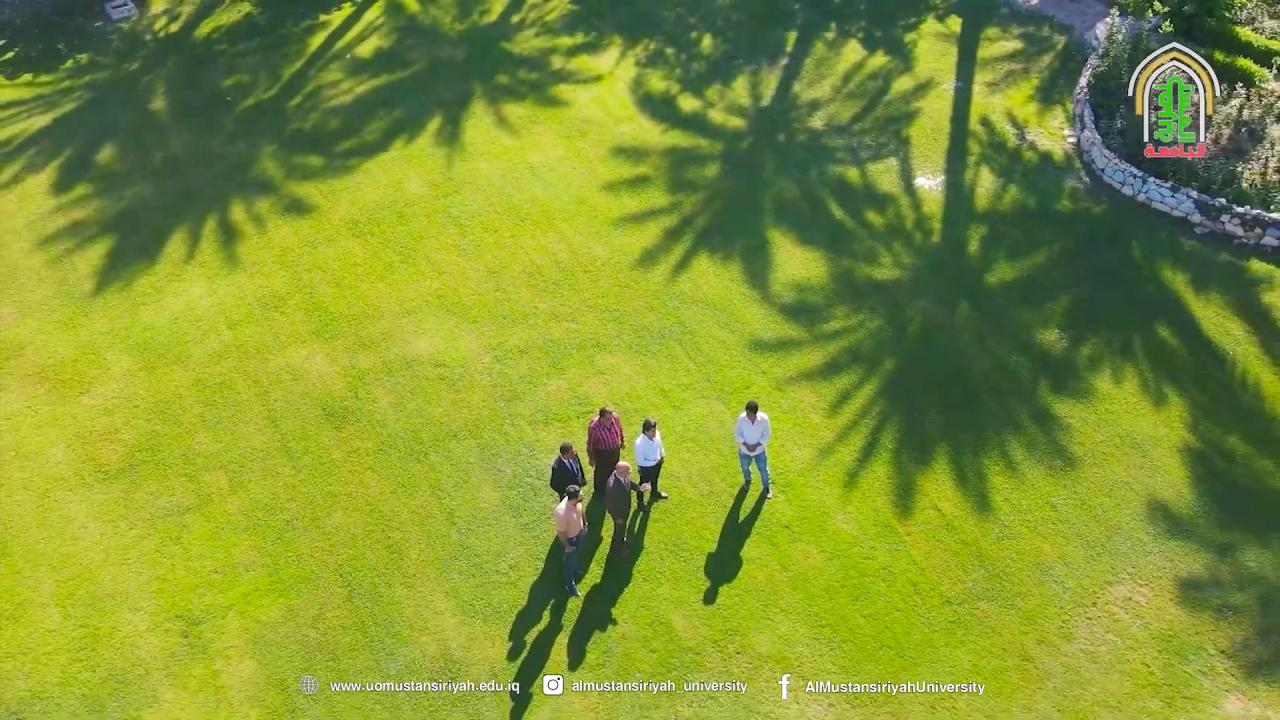person: (605, 460, 650, 557), (553, 484, 588, 597), (734, 400, 773, 499), (586, 406, 625, 494), (634, 417, 668, 509), (549, 441, 587, 504)
tree: (1087, 0, 1279, 229)
